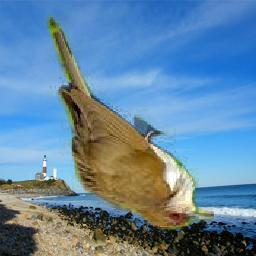Cuckoo: (48, 15, 215, 232)
